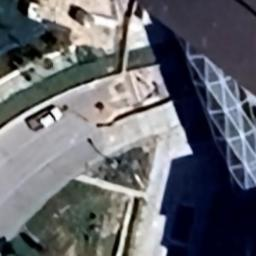pickup: (23, 106, 65, 136)
